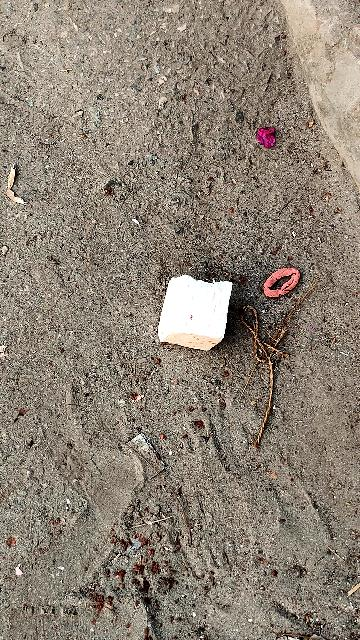cocksheet: (149, 271, 234, 349)
